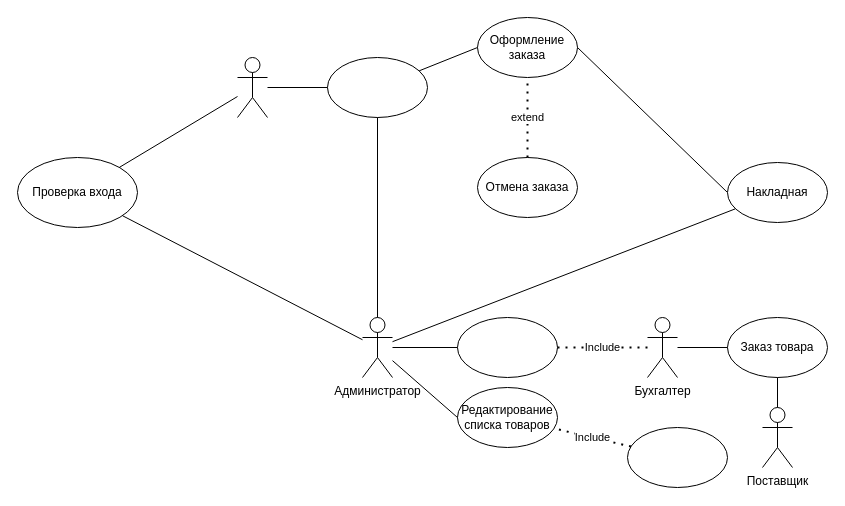
Image size: 845x506. Some labels were removed from this diagram. Here are the shapes that lost their labels. From the top down, the centre of each, then its label:
pixel 252 87: Сотрудник
pixel 377 87: Наличие товара
pixel 507 347: Добавление списка товаров
pixel 677 457: Удаление списка товаров
